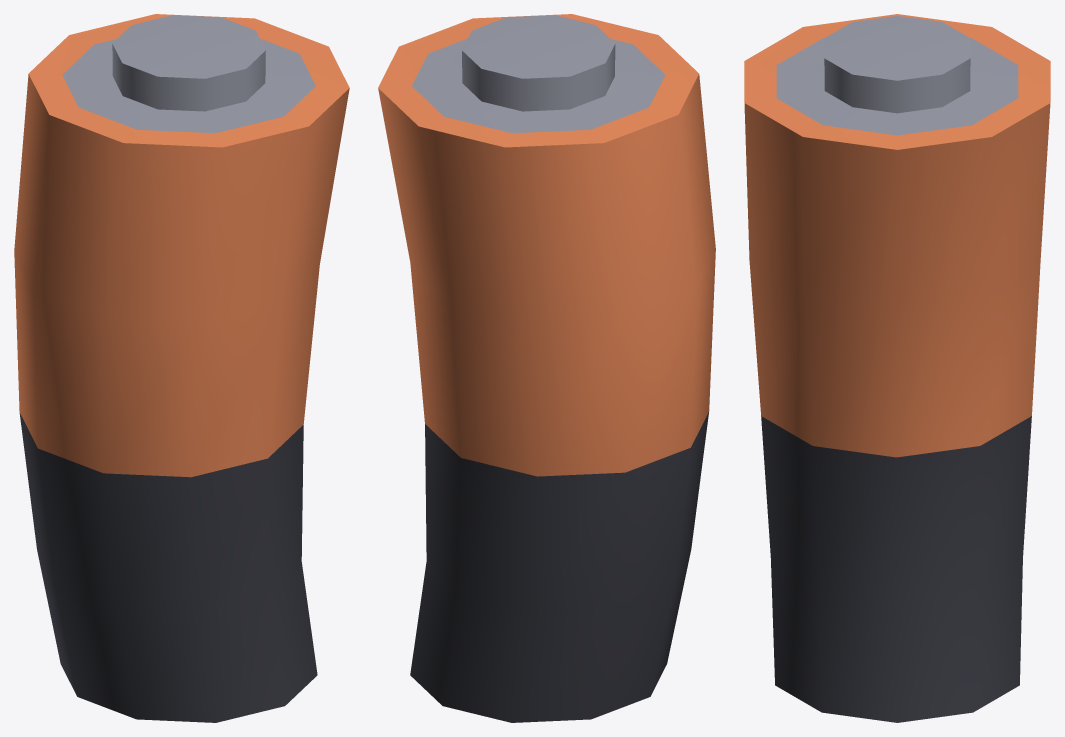
The model's file is Battery.fbx.
3 views of the same model, side by side, from view 1: azimuth 30°, elevation 25°; view 2: azimuth 150°, elevation 25°; view 3: azimuth 270°, elevation 25° (orthographic).
Visible parts, largest first — view 1: Battery; view 2: Battery; view 3: Battery.
Part boxes in pixels (x1,y1,x2,y2): Battery: (14,14,349,722); Battery: (378,14,715,722); Battery: (744,14,1050,722).
Bounding box in the file's own units: 2.08 × 4.19 × 1.87.
